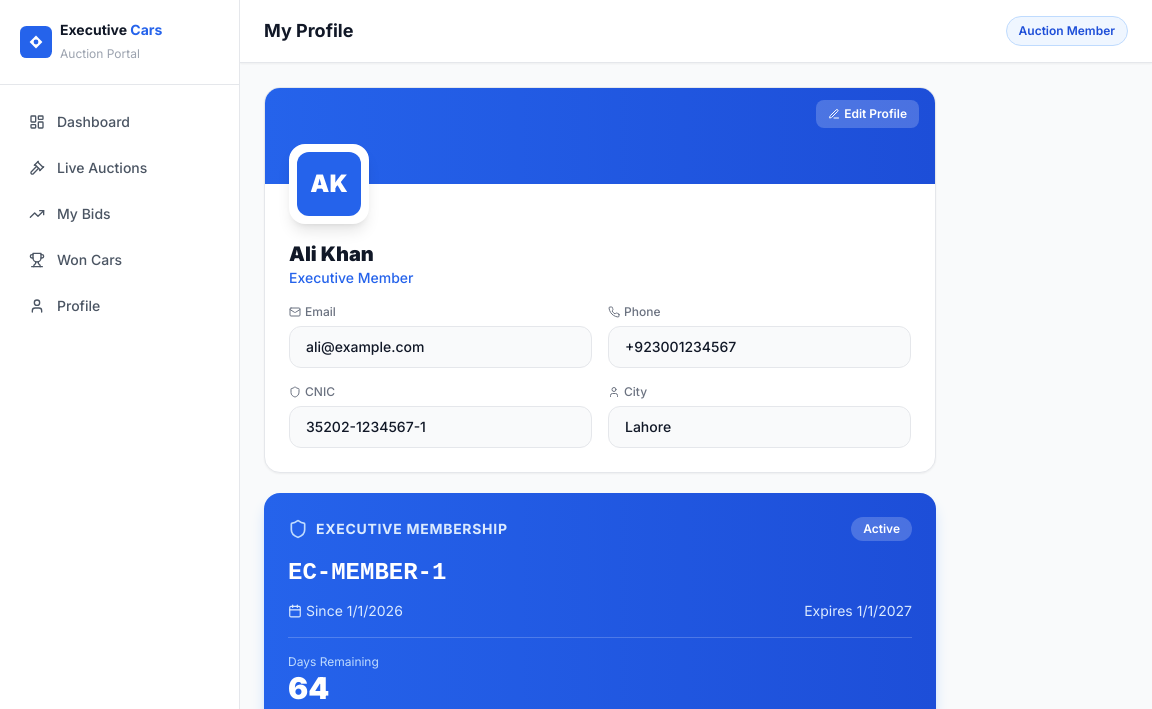
Test: AuctionProfilePage › discards unsaved edits when editing is cancelled
Expected: the text "Lahore" is shown, [608,406,911,448]
Click the button "Edit Profile" at (868, 114), box [816,100,919,128]
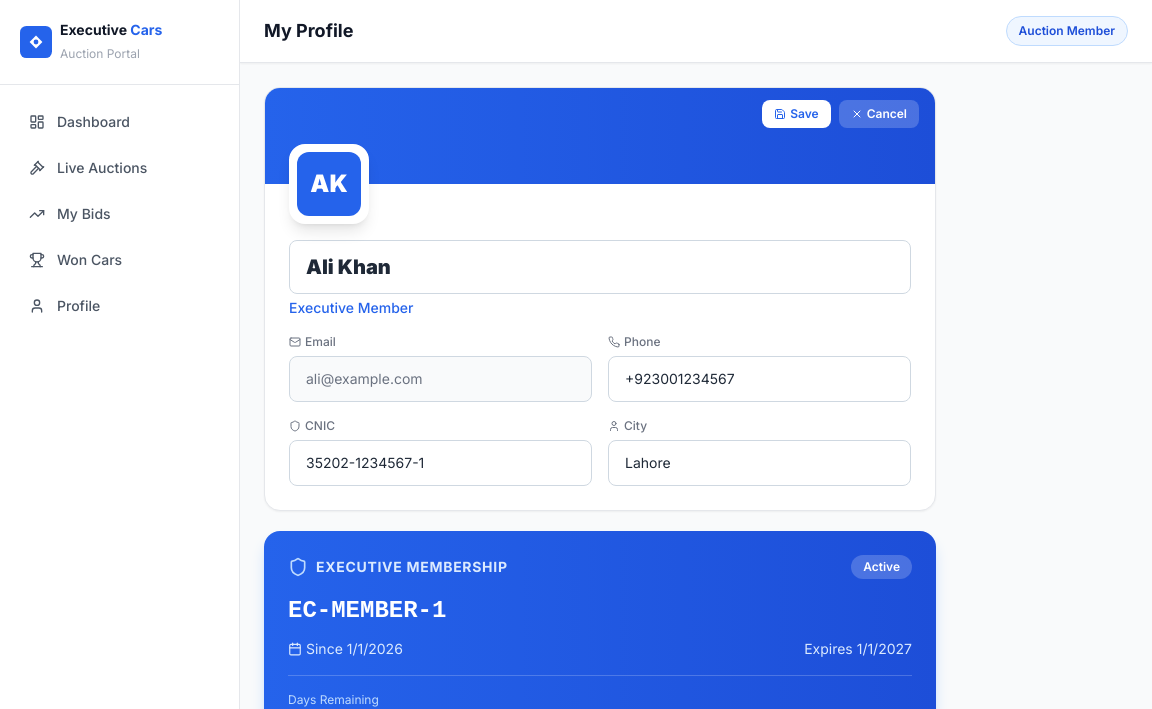
Replace the text in the field labelled "City" with "Karachi" at (760, 463), box [608,440,911,486]
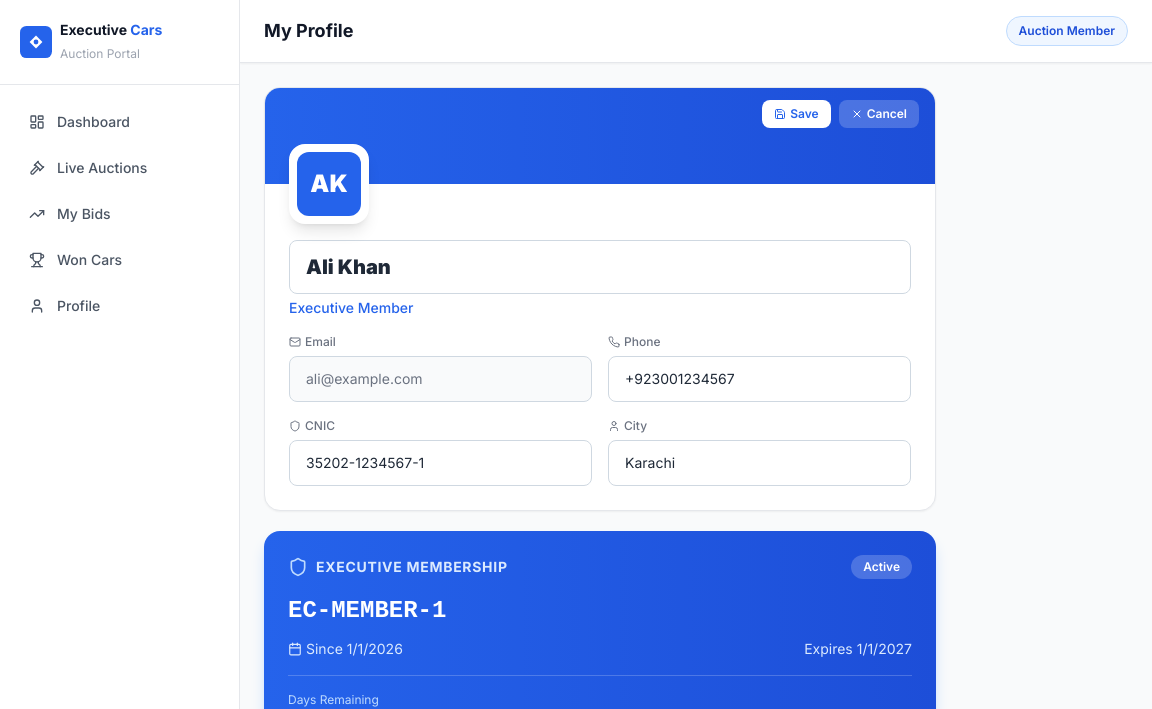
Click the button "Cancel" at (879, 114), box [839,100,919,128]
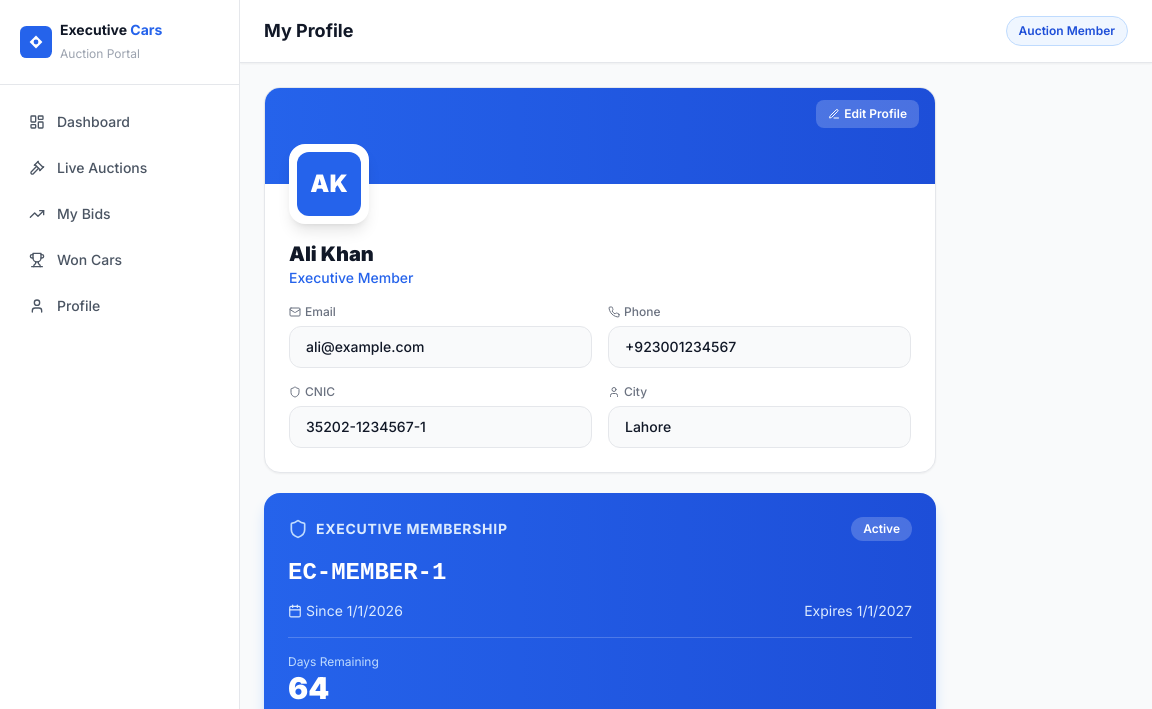
Expected: the text "Karachi" is not shown
Result: the text "Lahore" is shown at [608,406,911,448]
Click the button "Edit Profile" at (868, 114), box [816,100,919,128]
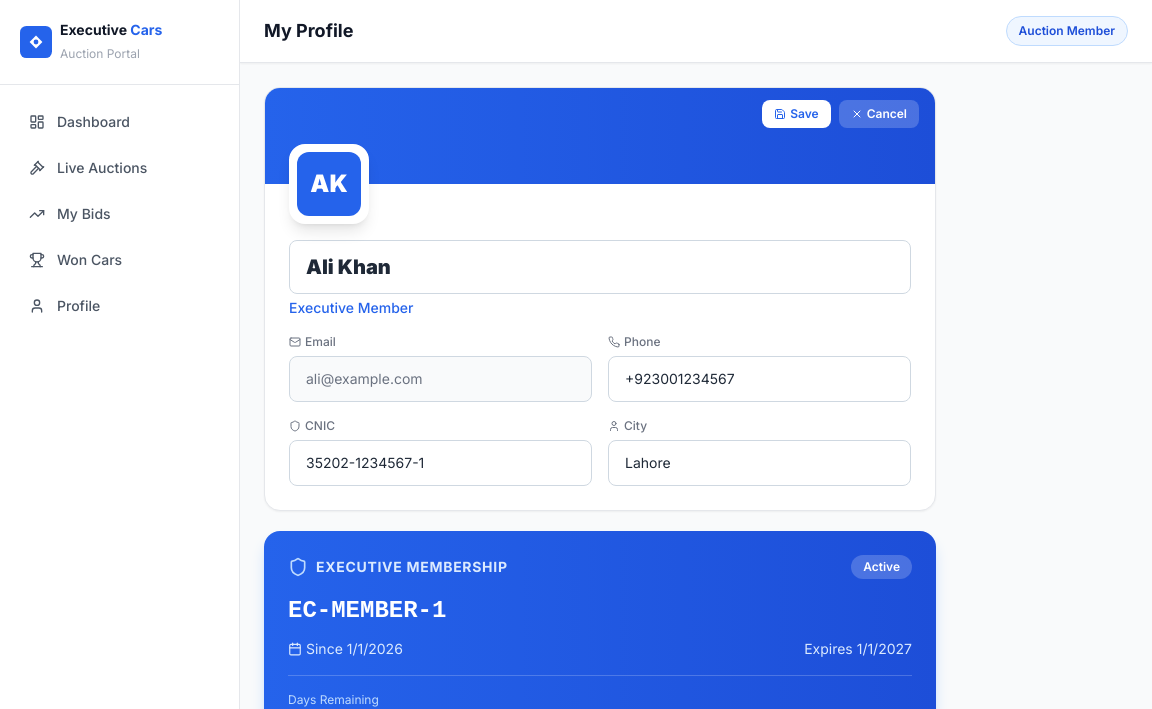
Result: the field labelled "City" holds "Lahore" at [608,440,911,486]
